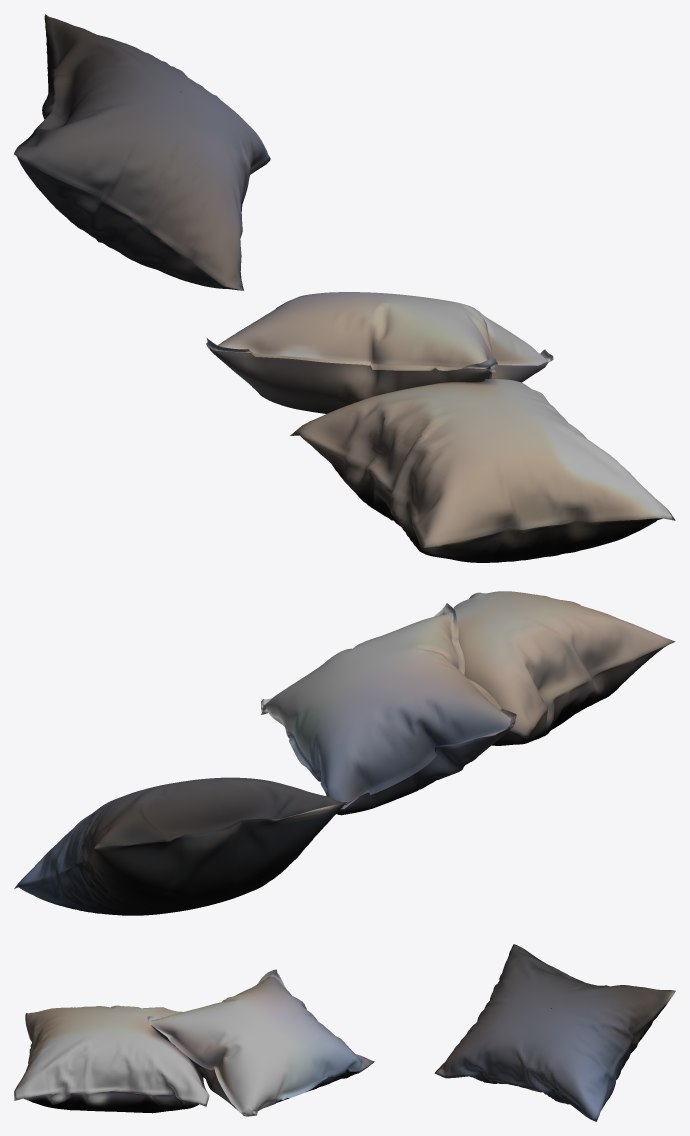
File: Chocofur.free.Beds.01.003.gltf
The picture shows the model from 3 angles, top to bottom: view 1: azimuth 30°, elevation 25°; view 2: azimuth 150°, elevation 25°; view 3: azimuth 270°, elevation 25°; orthographic projection. The views are drawn at different scales.
Visible parts, largest first — view 1: Chocofur.free.Beds.01.003; view 2: Chocofur.free.Beds.01.003; view 3: Chocofur.free.Beds.01.003.
Boxes of the visible parts, bbox=[...] form: Chocofur.free.Beds.01.003: bbox=[14, 14, 675, 562]; Chocofur.free.Beds.01.003: bbox=[14, 591, 675, 915]; Chocofur.free.Beds.01.003: bbox=[14, 944, 675, 1121].
Bounding box in the file's own units: 0.7134 × 0.3845 × 2.05.
Materials: 1 (1 with a texture image).
